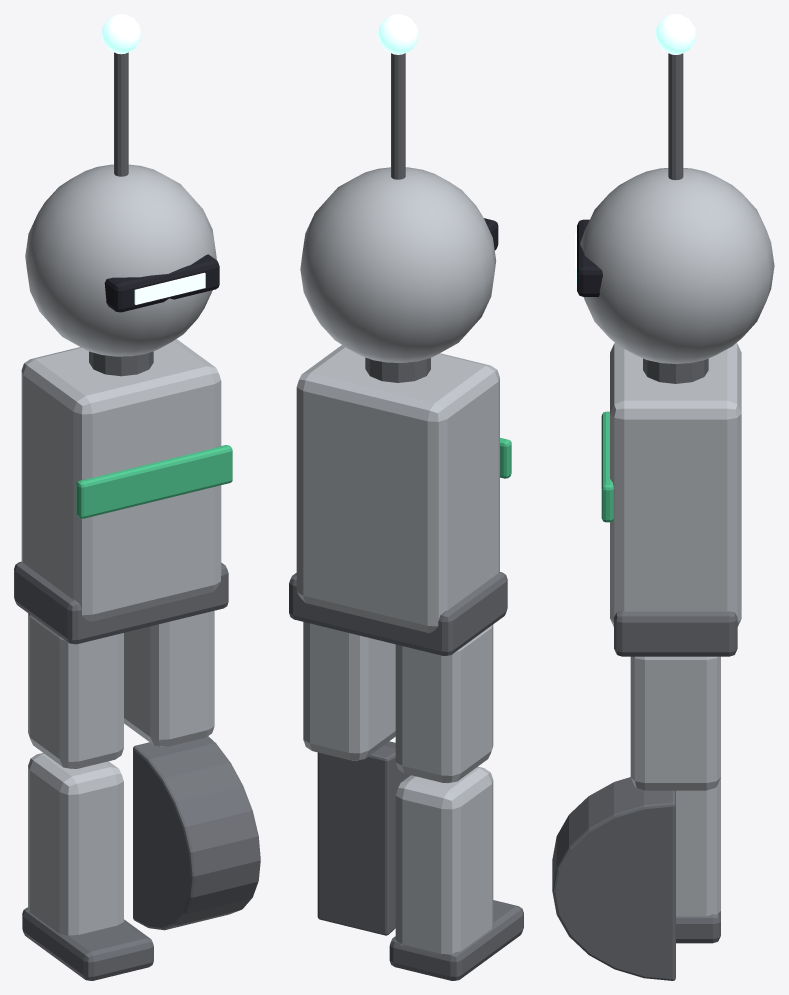
File: sprinter-lo.glb
3 views of the same model, side by side, from view 1: azimuth 30°, elevation 25°; view 2: azimuth 150°, elevation 25°; view 3: azimuth 270°, elevation 25° (orthographic). The views are drawn at different scales.
Parts seen in each view (by area): view 1: SprinterA_Torso, SprinterA_HeadBall, SprinterA_Shin_R, SprinterA_Shin_L, SprinterA_Thigh_L, SprinterA_Thigh_R, SprinterA_Hips, SprinterA_Sash, SprinterA_Foot_L, SprinterA_Visor, SprinterA_Antenna, SprinterA_AntTip (+2 smaller); view 2: SprinterA_Torso, SprinterA_HeadBall, SprinterA_Shin_L, SprinterA_Shin_R, SprinterA_Thigh_L, SprinterA_Thigh_R, SprinterA_Hips, SprinterA_Foot_L, SprinterA_Antenna, SprinterA_AntTip, SprinterA_Neck; view 3: SprinterA_Torso, SprinterA_HeadBall, SprinterA_Shin_R, SprinterA_Thigh_R, SprinterA_Shin_L, SprinterA_Hips, SprinterA_Antenna, SprinterA_AntTip, SprinterA_Foot_L, SprinterA_Neck, SprinterA_Visor, SprinterA_Sash.
Boxes of the visible parts, box(x1,y1,x2,y2) form: SprinterA_Torso: box(21, 339, 221, 621); SprinterA_HeadBall: box(25, 164, 216, 356); SprinterA_Shin_R: box(133, 736, 260, 930); SprinterA_Shin_L: box(28, 753, 123, 935); SprinterA_Thigh_L: box(28, 613, 123, 768); SprinterA_Thigh_R: box(124, 610, 214, 746); SprinterA_Hips: box(14, 561, 228, 644); SprinterA_Sash: box(76, 445, 232, 518); SprinterA_Foot_L: box(22, 907, 153, 980); SprinterA_Visor: box(104, 254, 219, 312); SprinterA_Antenna: box(114, 52, 128, 176); SprinterA_AntTip: box(101, 14, 141, 54); SprinterA_Torso: box(296, 345, 499, 633); SprinterA_HeadBall: box(300, 167, 496, 362); SprinterA_Shin_L: box(395, 766, 493, 956); SprinterA_Shin_R: box(317, 741, 410, 935); SprinterA_Thigh_L: box(395, 624, 493, 783); SprinterA_Thigh_R: box(303, 622, 395, 760); SprinterA_Hips: box(289, 572, 507, 655); SprinterA_Foot_L: box(389, 900, 523, 980); SprinterA_Antenna: box(391, 53, 405, 179); SprinterA_AntTip: box(378, 14, 418, 54); SprinterA_Neck: box(365, 357, 430, 382); SprinterA_Torso: box(610, 343, 741, 626); SprinterA_HeadBall: box(580, 168, 774, 363); SprinterA_Shin_R: box(552, 777, 675, 980); SprinterA_Thigh_R: box(630, 656, 720, 790); SprinterA_Shin_L: box(676, 778, 720, 916); SprinterA_Hips: box(614, 611, 737, 656); SprinterA_Antenna: box(668, 53, 683, 180); SprinterA_AntTip: box(655, 14, 696, 54); SprinterA_Foot_L: box(676, 911, 720, 943); SprinterA_Neck: box(643, 358, 708, 383); SprinterA_Visor: box(577, 219, 602, 296); SprinterA_Sash: box(601, 411, 613, 522).
Size of the model in its own units: 0.48 by 2.51 by 0.54.
